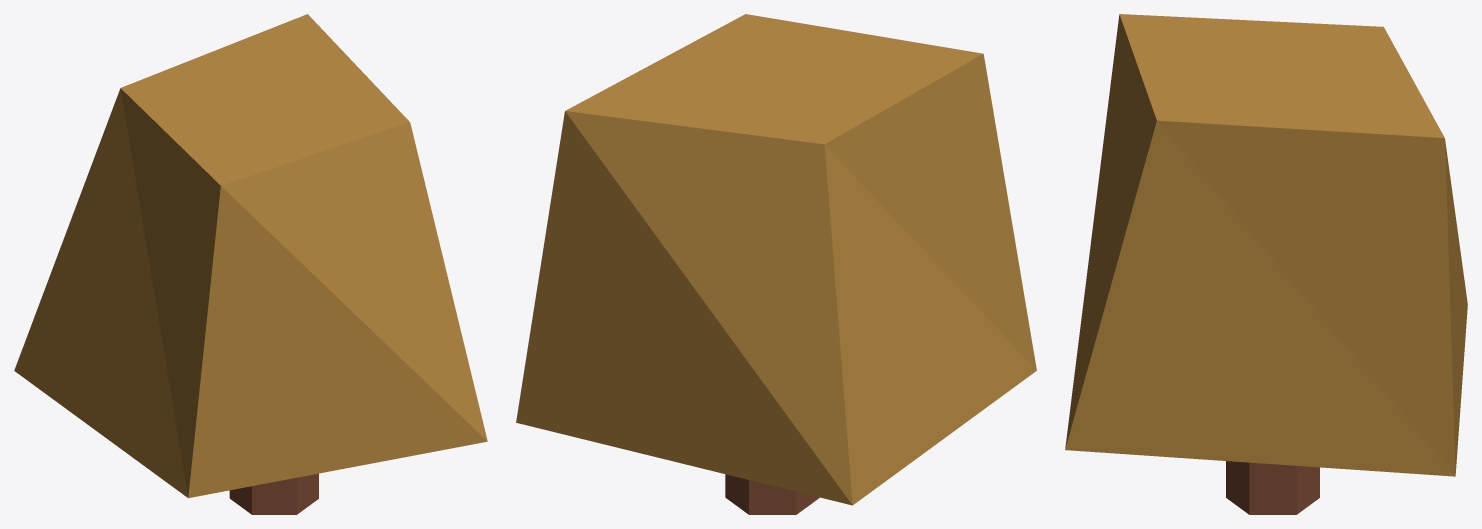
Rendered from Bush_11_autumn_mat.fbx.
The picture shows the model from 3 angles, left to right: view 1: azimuth 30°, elevation 25°; view 2: azimuth 150°, elevation 25°; view 3: azimuth 270°, elevation 25°; orthographic projection. The views are drawn at different scales.
Visible parts, largest first — view 1: Bush_11_autumn_mat; view 2: Bush_11_autumn_mat; view 3: Bush_11_autumn_mat.
Part boxes in pixels (bbox=[...]): Bush_11_autumn_mat: bbox=[14, 14, 487, 514]; Bush_11_autumn_mat: bbox=[516, 14, 1036, 514]; Bush_11_autumn_mat: bbox=[1065, 14, 1467, 514].
Size of the model in its own units: 50.88 by 59.59 by 51.95.
